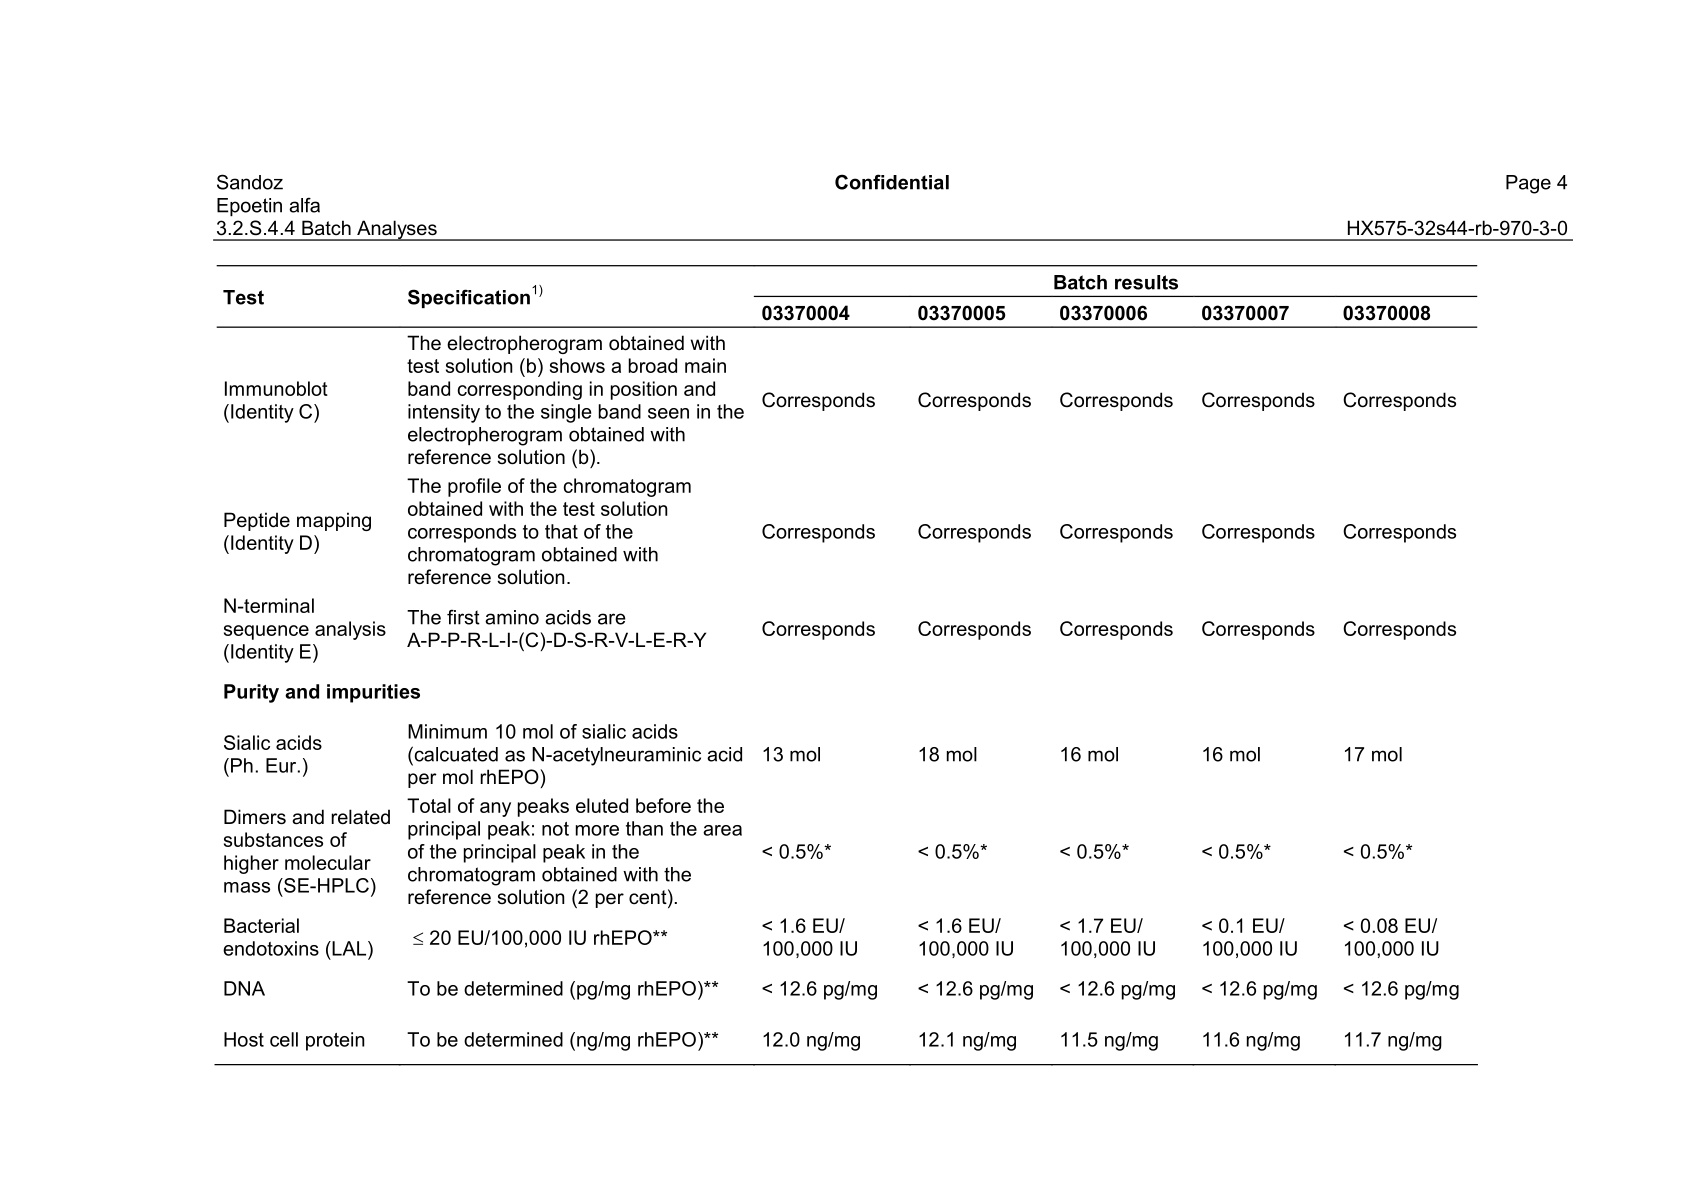partial_lined_merged_cells: (219, 266, 1478, 1067)
